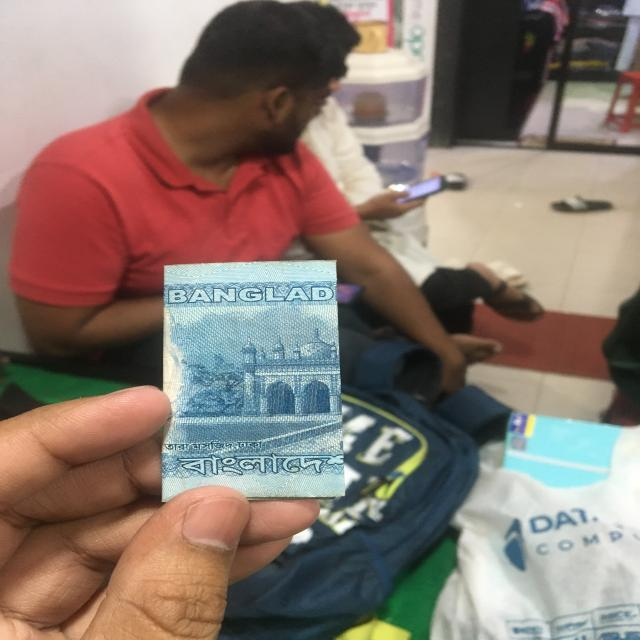Taka: (164, 262, 343, 494)
